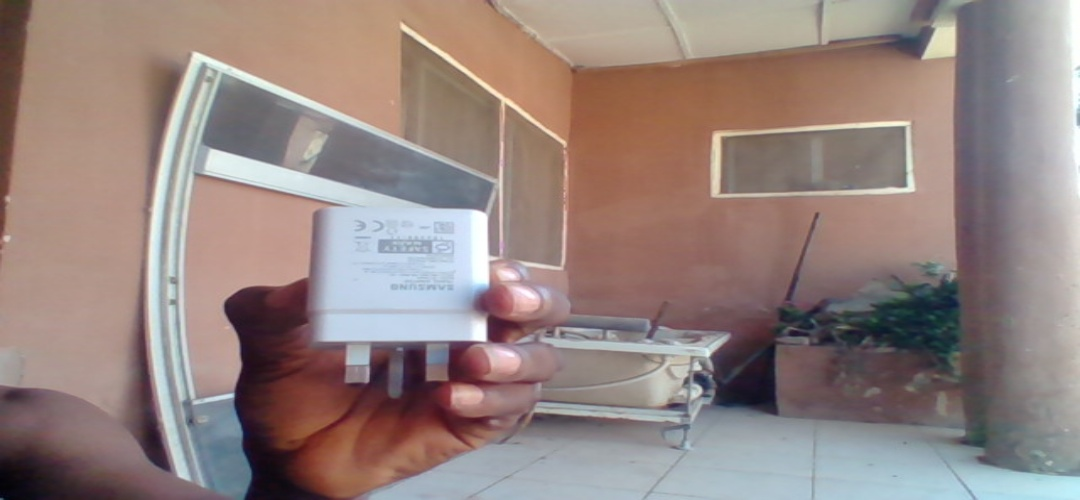phone_charger: (302, 204, 496, 398)
